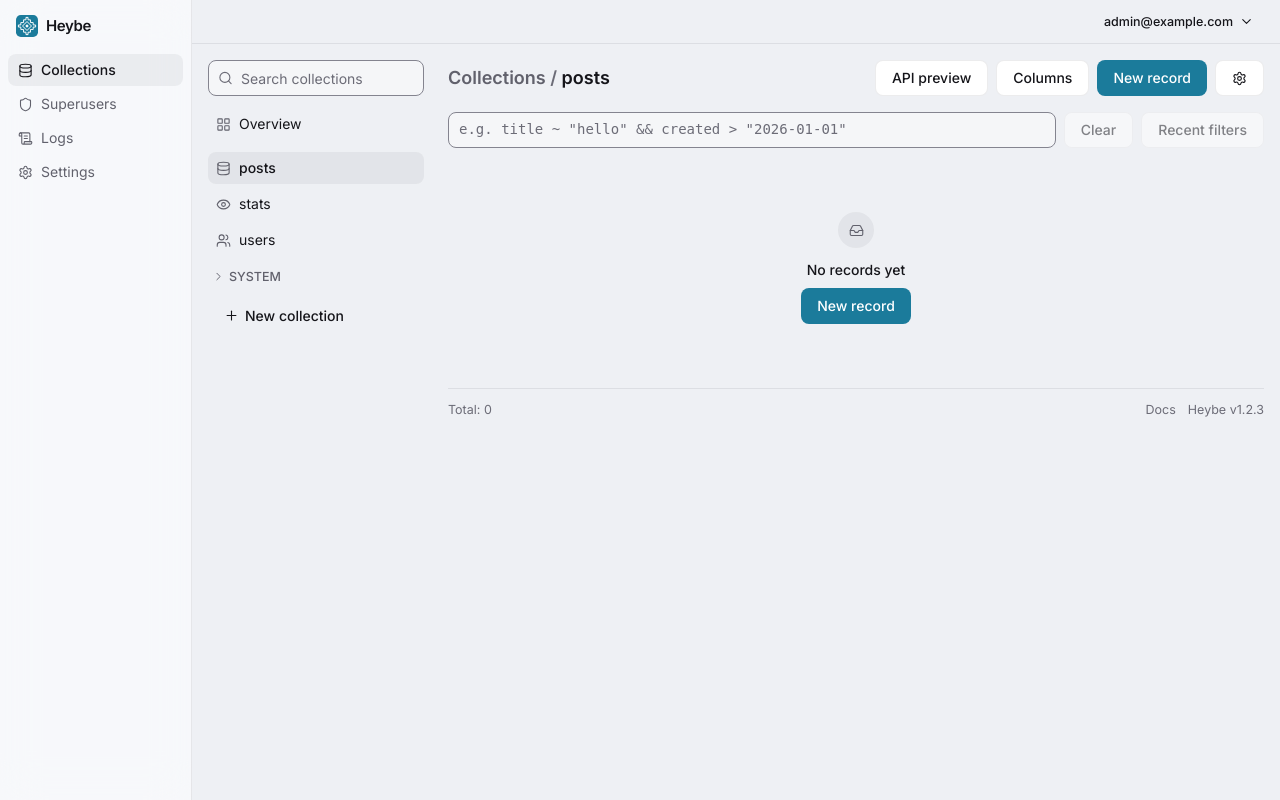
Scenario: the System toggle is locked open while a search is active
In the field with placeholder "Search collections": [316, 78] box left=208, top=60, right=424, bottom=96, type "_super"
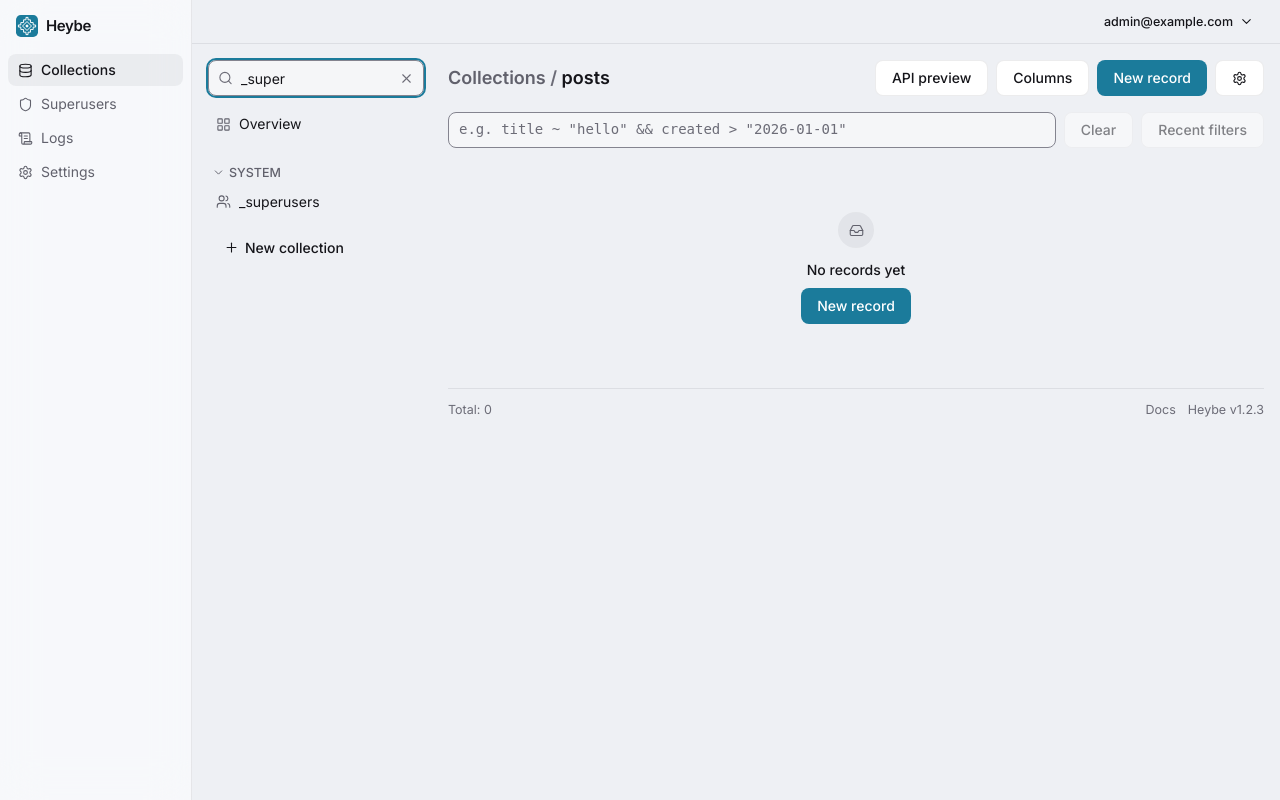
Check: the button "System" is expanded, box left=208, top=164, right=424, bottom=182
Check: the button "System" is disabled, box left=208, top=164, right=424, bottom=182
